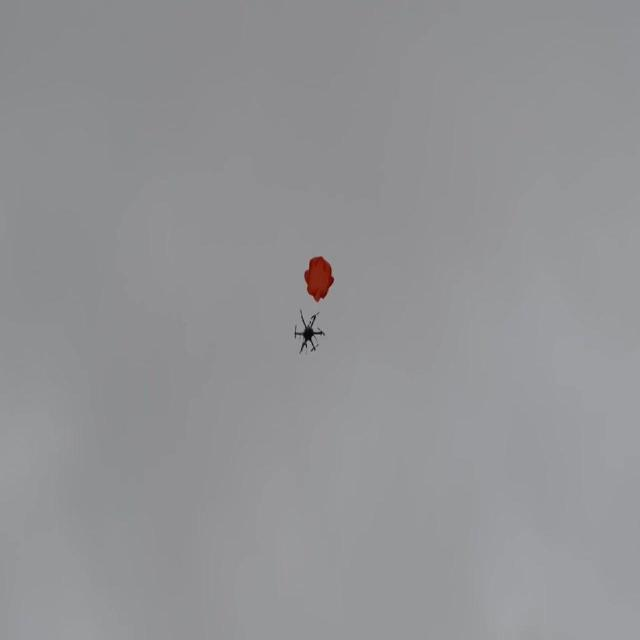drone: (294, 309, 326, 359)
